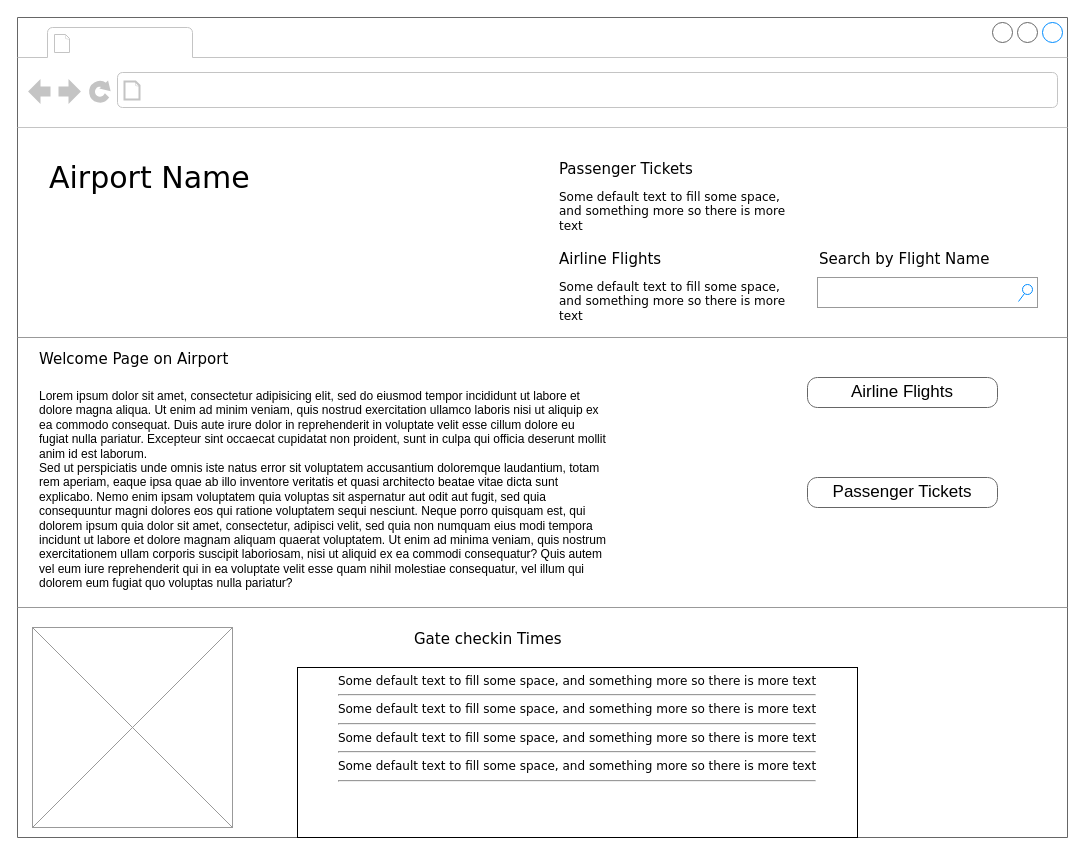
Image size: 1085x855. Some labels were removed from this diagram. The shapes that lost their labels are listed below. From the top down, each one's centre as x and y in pixels, then its label:
At (132,42): "Page 2".
At (927,292): "Search".
